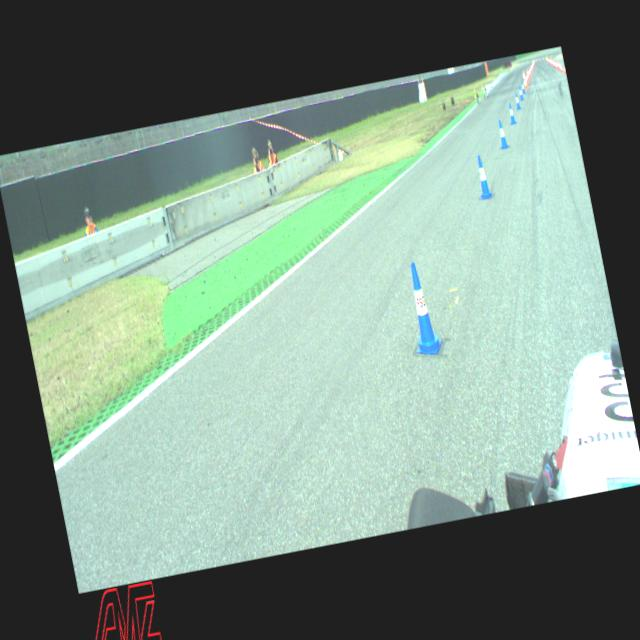blue_cone: (400, 260, 444, 358), (472, 154, 493, 200), (496, 120, 509, 150), (506, 102, 516, 125), (514, 92, 522, 110), (518, 85, 524, 101), (521, 81, 526, 94)
large_orange_cone: (521, 70, 529, 89)
orange_cone: (562, 64, 566, 74), (560, 64, 564, 73)
